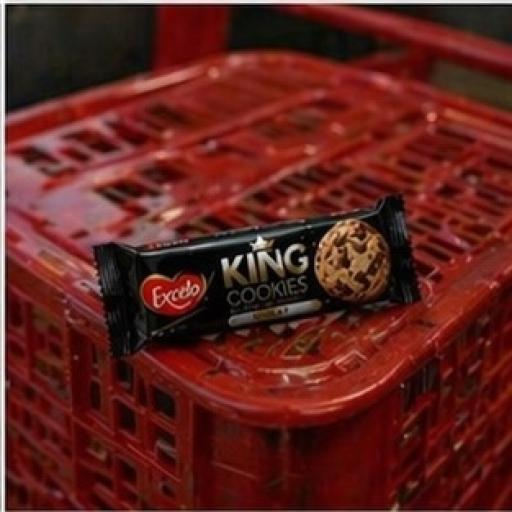king_cooking: (54, 178, 482, 406)
